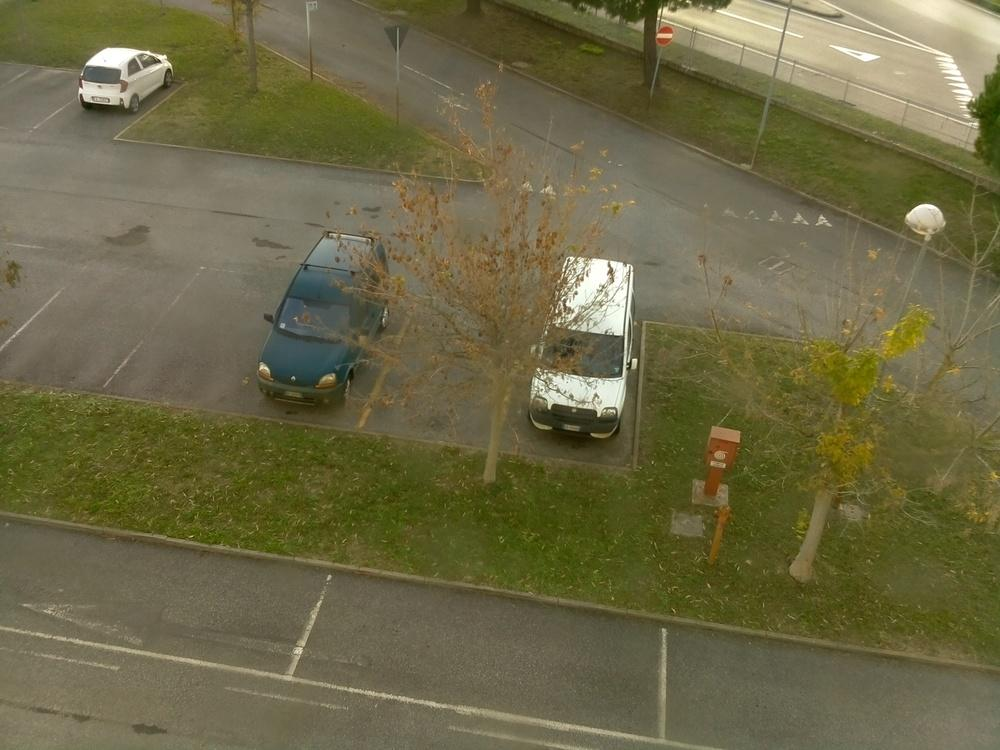empty: (248, 244, 408, 412), (521, 370, 637, 443), (69, 48, 179, 116)
occupied: (703, 629, 906, 750), (371, 597, 596, 699), (39, 553, 222, 640), (398, 310, 518, 441), (166, 291, 272, 389), (47, 306, 133, 370), (12, 67, 61, 121)
